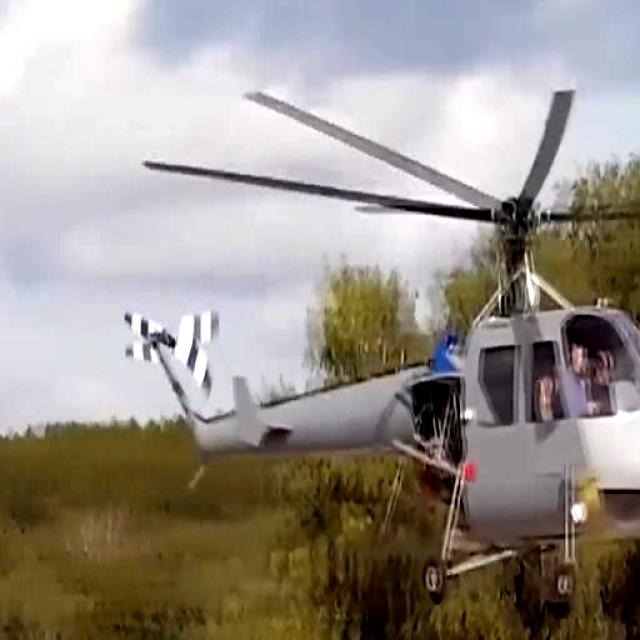drone: (119, 72, 640, 612)
